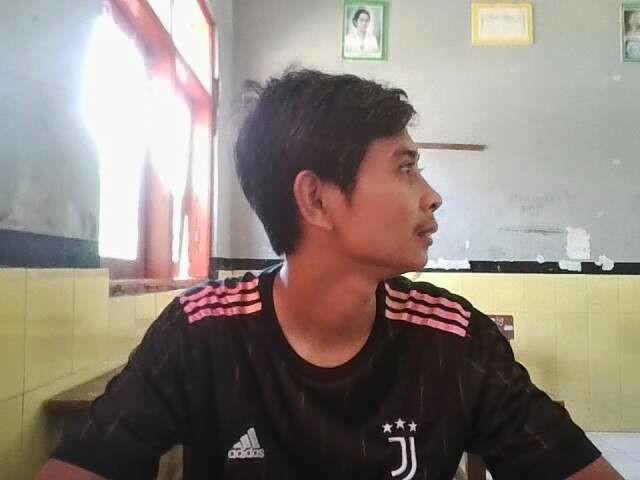cheating: (36, 48, 623, 480)
